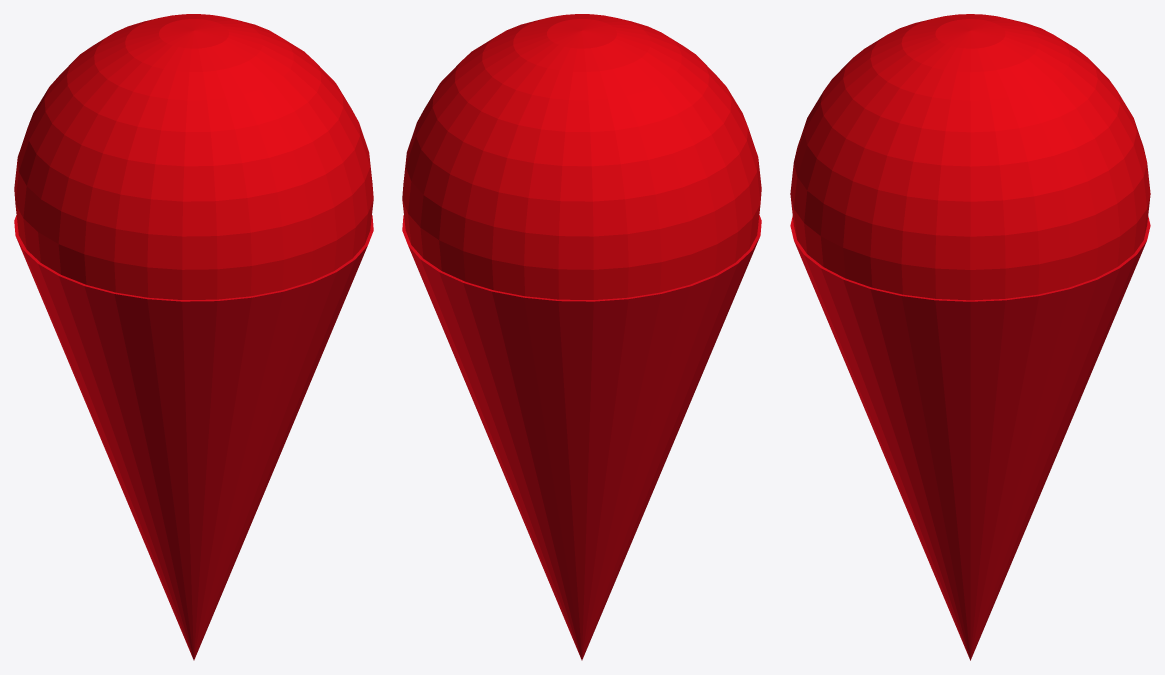
Rendered from walk-man.gltf.
3 renders of one model, left to right at view 1: azimuth 30°, elevation 25°; view 2: azimuth 150°, elevation 25°; view 3: azimuth 270°, elevation 25°, orthographic.
Parts seen in each view (by area): view 1: Sphere, Cone; view 2: Sphere, Cone; view 3: Sphere, Cone.
Boxes of the visible parts, bbox=[...] form: Sphere: bbox=[14, 14, 373, 299]; Cone: bbox=[14, 215, 373, 660]; Sphere: bbox=[402, 14, 761, 299]; Cone: bbox=[402, 215, 761, 660]; Sphere: bbox=[790, 14, 1150, 300]; Cone: bbox=[790, 216, 1150, 660].
Bounding box in the file's own units: 0.6 × 1.16 × 0.6.
